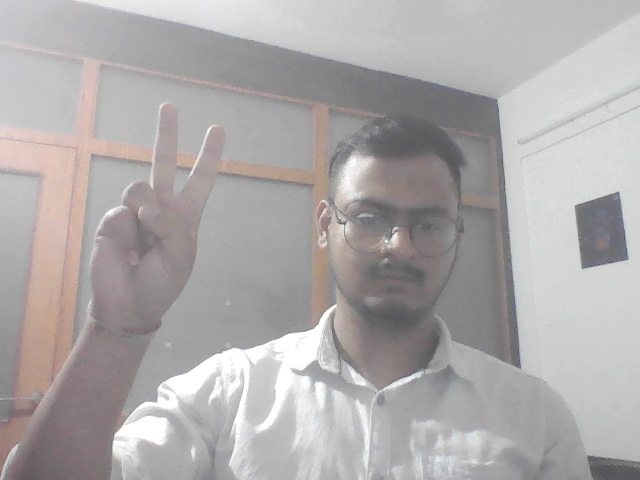Peace: (74, 100, 230, 335)
